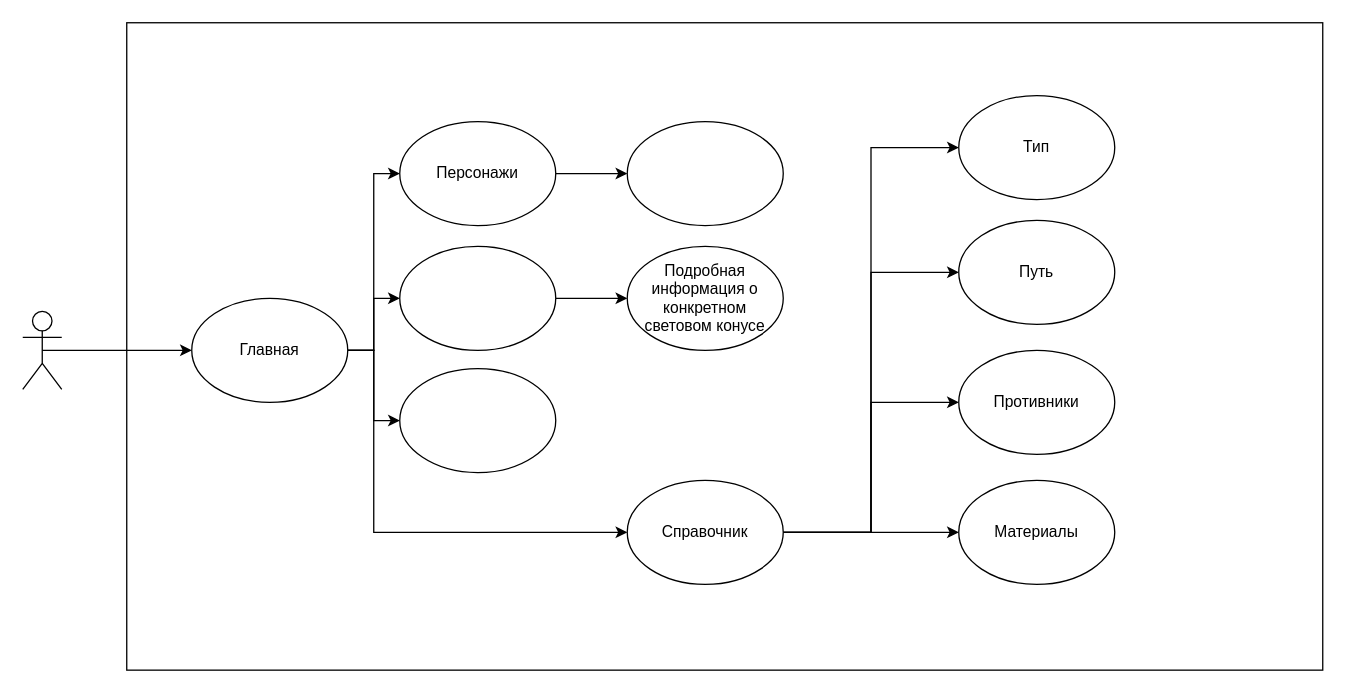
Image size: 1346x693. Some labels were removed from this diagram. The centre of each missing label's shape, as x and y in pixels:
Actor: point 41,349
Подробная информация о конкретном персонаже: point 704,173
Реликвии: point 477,420
Световой конус: point 477,297
